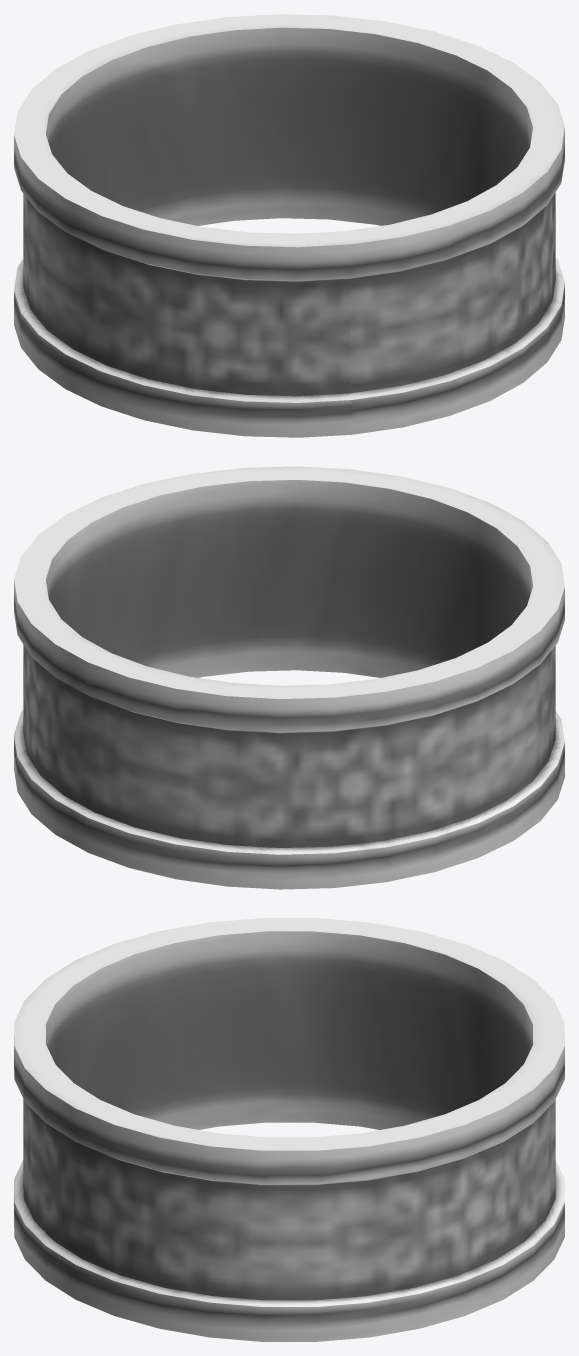
The model's file is SM_Ring_A_Silver.fbx.
3 renders of one model, top to bottom at view 1: azimuth 30°, elevation 25°; view 2: azimuth 150°, elevation 25°; view 3: azimuth 270°, elevation 25°, orthographic.
Parts seen in each view (by area): view 1: SM_Ring_A_Silver_LOD0; view 2: SM_Ring_A_Silver_LOD0; view 3: SM_Ring_A_Silver_LOD0.
Boxes of the visible parts, box(x1,y1,x2,y2) form: SM_Ring_A_Silver_LOD0: box(14, 14, 564, 437); SM_Ring_A_Silver_LOD0: box(14, 466, 564, 889); SM_Ring_A_Silver_LOD0: box(14, 918, 564, 1341).
Size of the model in its own units: 3.29 by 3.29 by 1.26.
